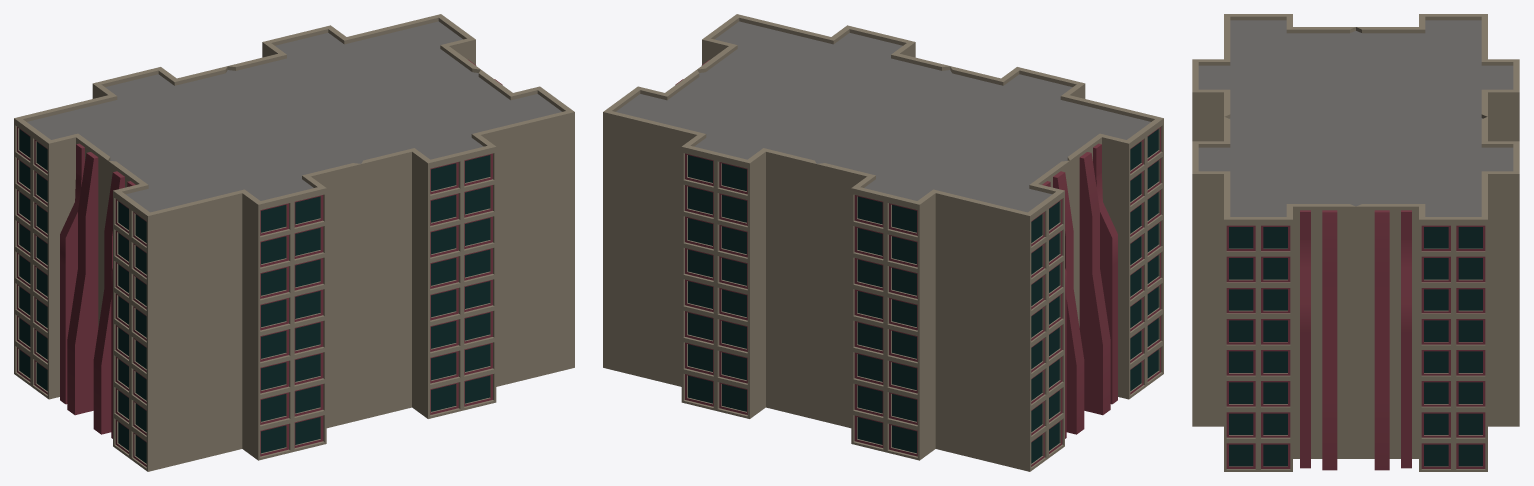
3 renders of one model, left to right at view 1: azimuth 30°, elevation 25°; view 2: azimuth 150°, elevation 25°; view 3: azimuth 270°, elevation 25°, orthographic.
Visible parts, largest first — view 1: building 2; view 2: building 2; view 3: building 2.
Boxes of the visible parts, x1,y1,x2,y2 form: building 2: (14, 14, 574, 471); building 2: (603, 14, 1163, 471); building 2: (1192, 14, 1519, 471).
Bounding box in the file's own units: 1042 × 596 × 701.
